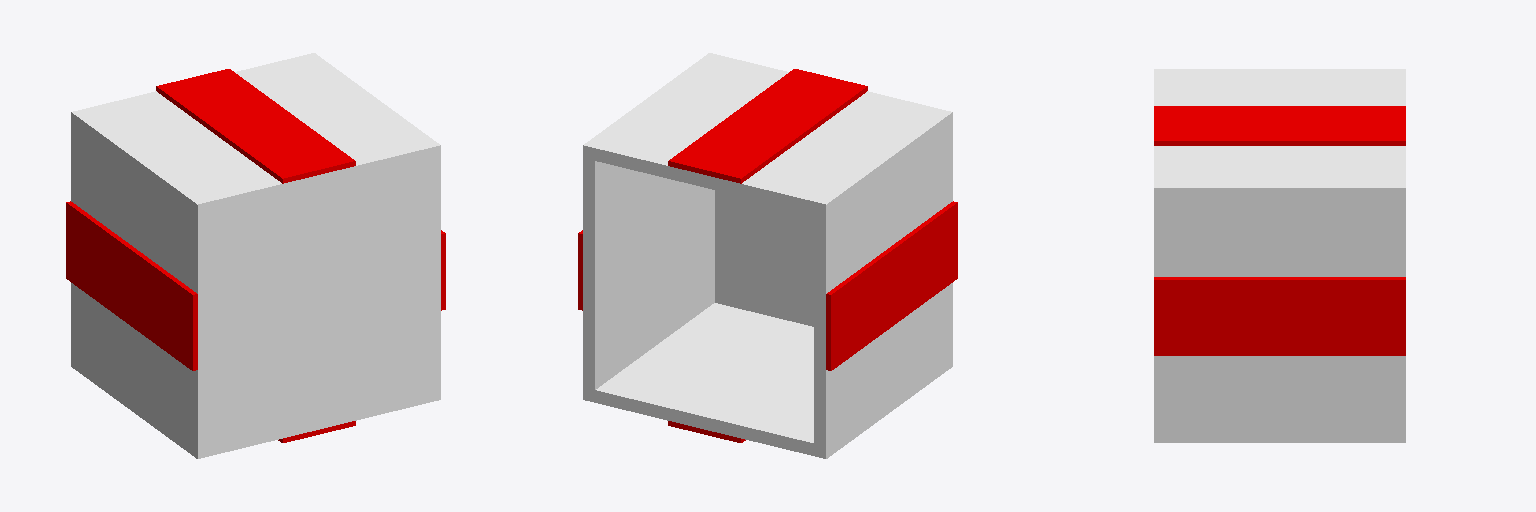
The picture shows the model from 3 angles: view 1: azimuth 30°, elevation 25°; view 2: azimuth 150°, elevation 25°; view 3: azimuth 270°, elevation 25°; orthographic projection.
Visible parts, largest first — view 1: プレゼントボックス_V4, ボックスリボン_V5; view 2: プレゼントボックス_V4, ボックスリボン_V5; view 3: プレゼントボックス_V4, ボックスリボン_V5.
Part boxes in pixels (x1,y1,x2,y2): プレゼントボックス_V4: (71, 53, 440, 458); ボックスリボン_V5: (66, 69, 445, 442); プレゼントボックス_V4: (583, 53, 952, 458); ボックスリボン_V5: (578, 69, 957, 442); プレゼントボックス_V4: (1154, 69, 1405, 442); ボックスリボン_V5: (1154, 106, 1405, 355).
Bounding box in the file's own units: 104 × 104 × 90.